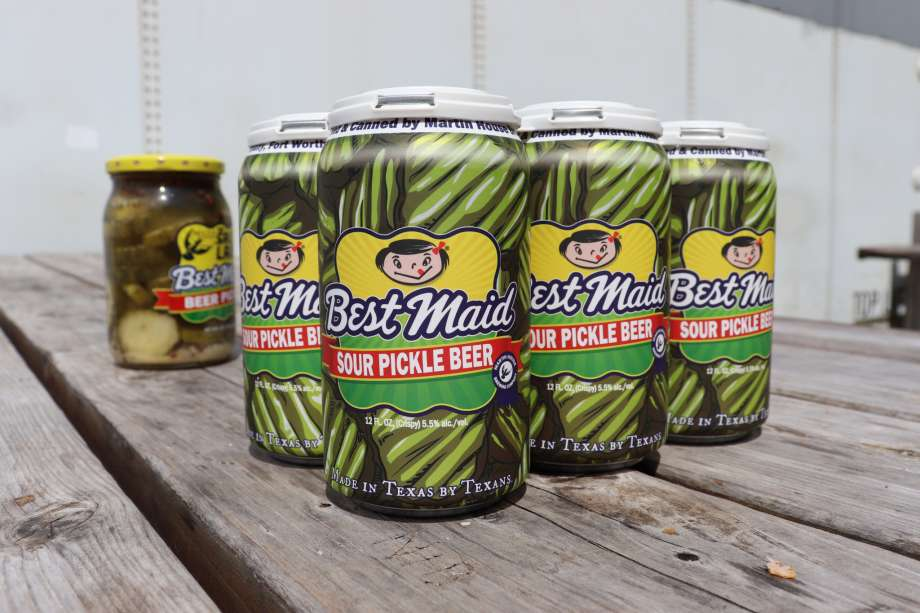beer can: (322, 96, 528, 509), (519, 101, 672, 477), (238, 114, 364, 465), (659, 117, 765, 442)
